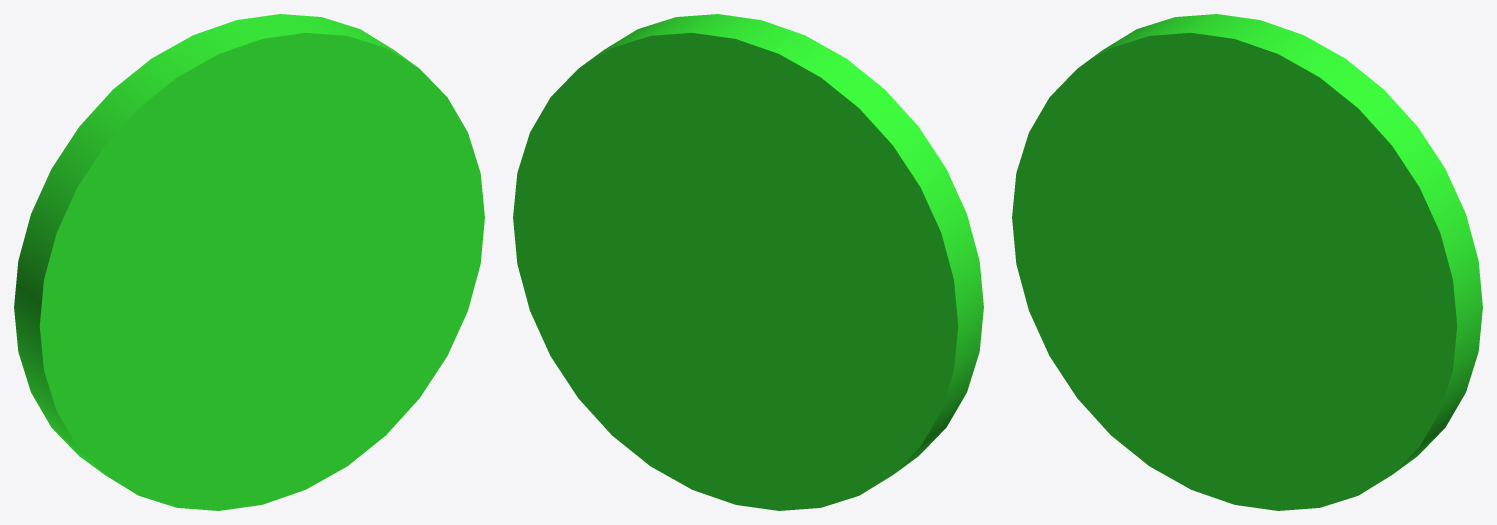
Rendered from Coingrounded.obj.
3 views of the same model, side by side, from view 1: azimuth 30°, elevation 25°; view 2: azimuth 150°, elevation 25°; view 3: azimuth 330°, elevation 25° (orthographic).
Parts seen in each view (by area): view 1: Coingrounded; view 2: Coingrounded; view 3: Coingrounded.
Boxes of the visible parts, box(x1,y1,x2,y2) form: Coingrounded: box(14, 14, 484, 510); Coingrounded: box(513, 14, 983, 510); Coingrounded: box(1012, 14, 1482, 510).
Size of the model in its own units: 1 by 1 by 0.1.
